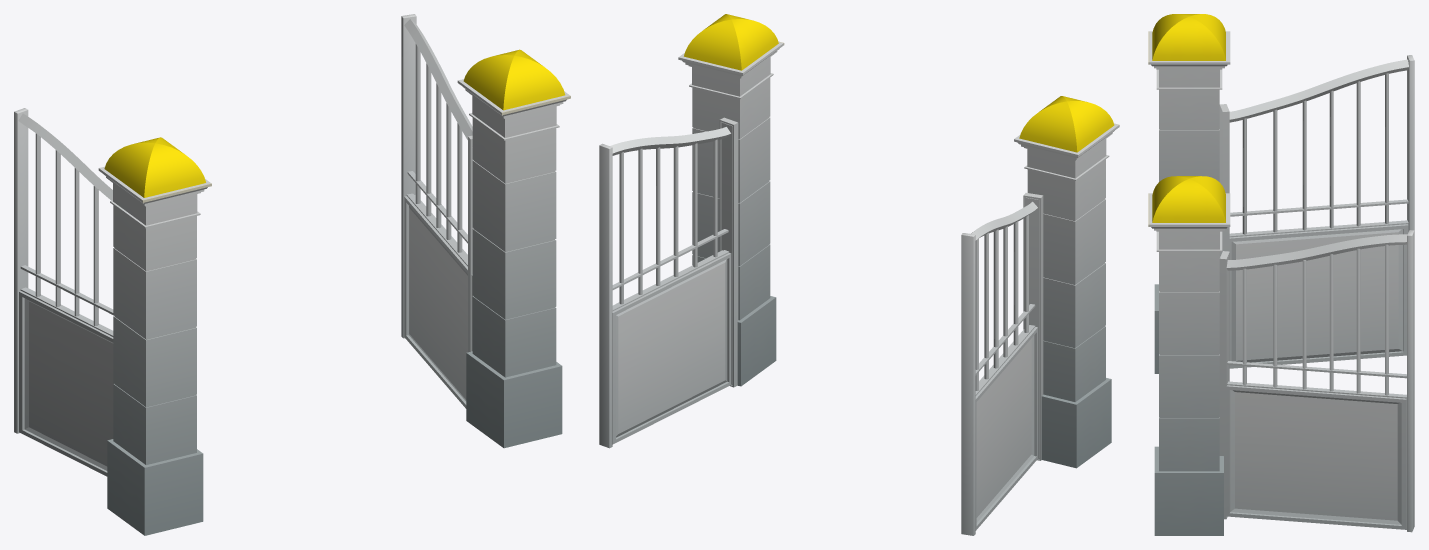
Rendered from ModernGate.fbx.
3 renders of one model, left to right at view 1: azimuth 30°, elevation 25°; view 2: azimuth 150°, elevation 25°; view 3: azimuth 270°, elevation 25°, orthographic. The views are drawn at different scales.
Visible parts, largest first — view 1: RightPillar; view 2: RightPillar; view 3: RightPillar.
Part boxes in pixels (<box>): RightPillar: <box>14,14,570,535</box>; RightPillar: <box>599,14,1119,535</box>; RightPillar: <box>1148,14,1414,535</box>.
Size of the model in its own units: 14.7 by 12.2 by 8.55.
Materials: 1 (1 with a texture image).
